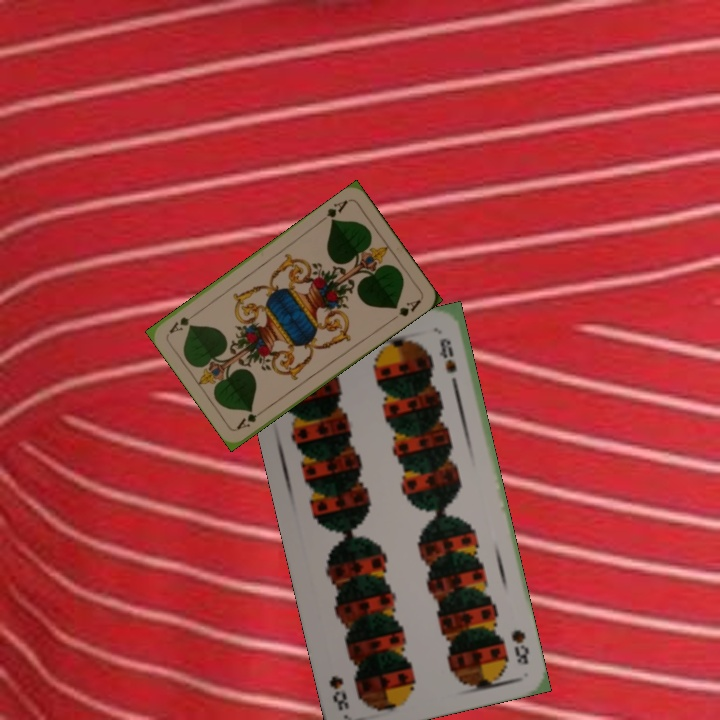GA: (316, 196, 351, 225), (232, 405, 269, 432)
S8: (507, 625, 532, 667)
